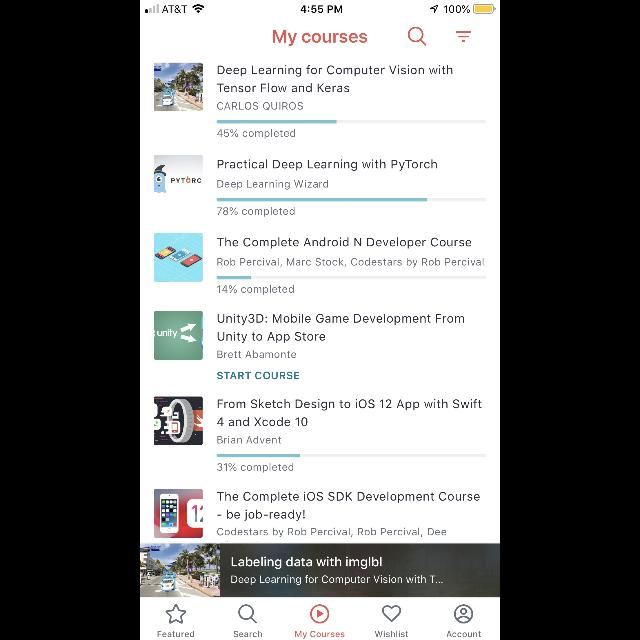icon: (166, 604, 187, 624), (238, 604, 258, 624), (310, 604, 330, 624), (453, 604, 472, 624), (382, 604, 402, 622), (408, 28, 427, 46), (456, 32, 470, 42)
image: (140, 544, 220, 596), (154, 396, 202, 446), (155, 489, 203, 537), (155, 312, 203, 360), (155, 234, 203, 282), (154, 63, 202, 111), (154, 155, 202, 193)
text: (218, 313, 464, 343), (218, 492, 480, 520), (218, 399, 482, 426), (218, 66, 452, 92), (218, 258, 484, 268), (218, 159, 437, 171), (217, 238, 471, 248), (218, 527, 447, 537), (232, 556, 382, 570), (232, 575, 442, 585), (273, 29, 367, 46), (218, 180, 328, 190), (217, 129, 295, 139), (218, 207, 294, 217), (218, 285, 294, 295), (218, 463, 294, 473), (217, 102, 303, 110), (217, 372, 299, 380), (218, 350, 296, 358), (217, 436, 281, 444), (295, 631, 345, 639), (158, 630, 195, 638), (446, 630, 482, 638), (374, 630, 408, 638), (234, 631, 262, 637)
uppertaskbar: (140, 0, 500, 14)
